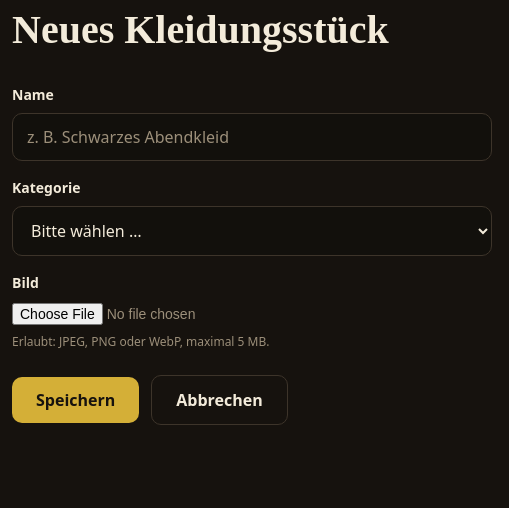
ItemFormPage (Anlegen) › zeigt einen Serverfehler beim Anlegen an
Type "Schwarzes Kleid" into the field labelled "Name" at coordinates (252, 137), box [12,113,492,161]
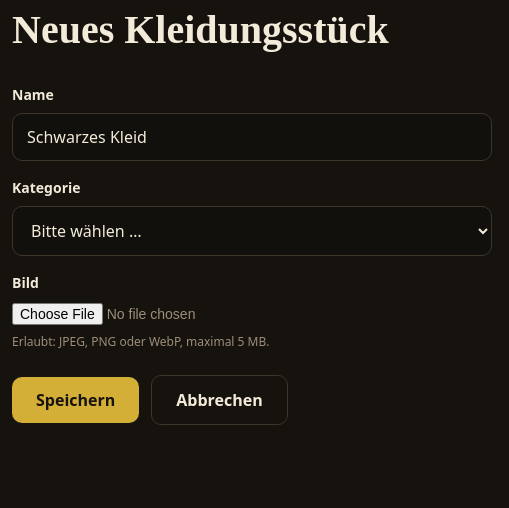
Select "Kleider" in the dropdown labelled "Kategorie" at coordinates (252, 231), box [12,206,492,256]
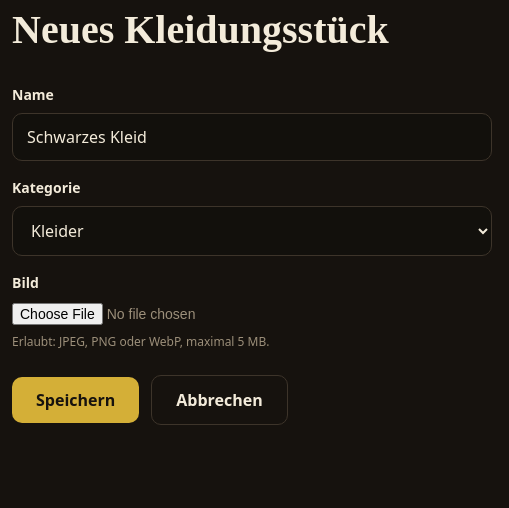
Click the button "Speichern" at coordinates (76, 400), box [12,377,139,423]
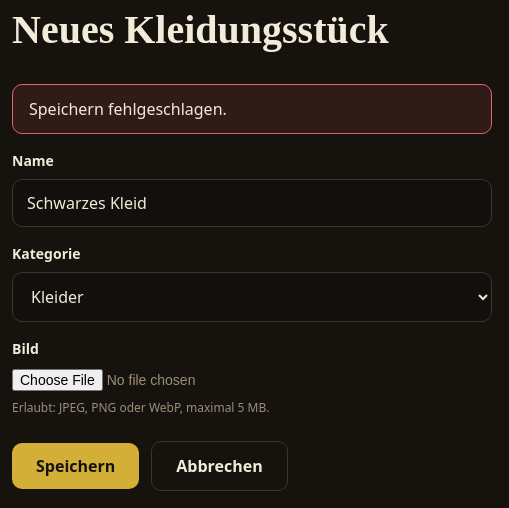
Now the message reads "Speichern fehlgeschlagen.", box [29,98,227,120]
